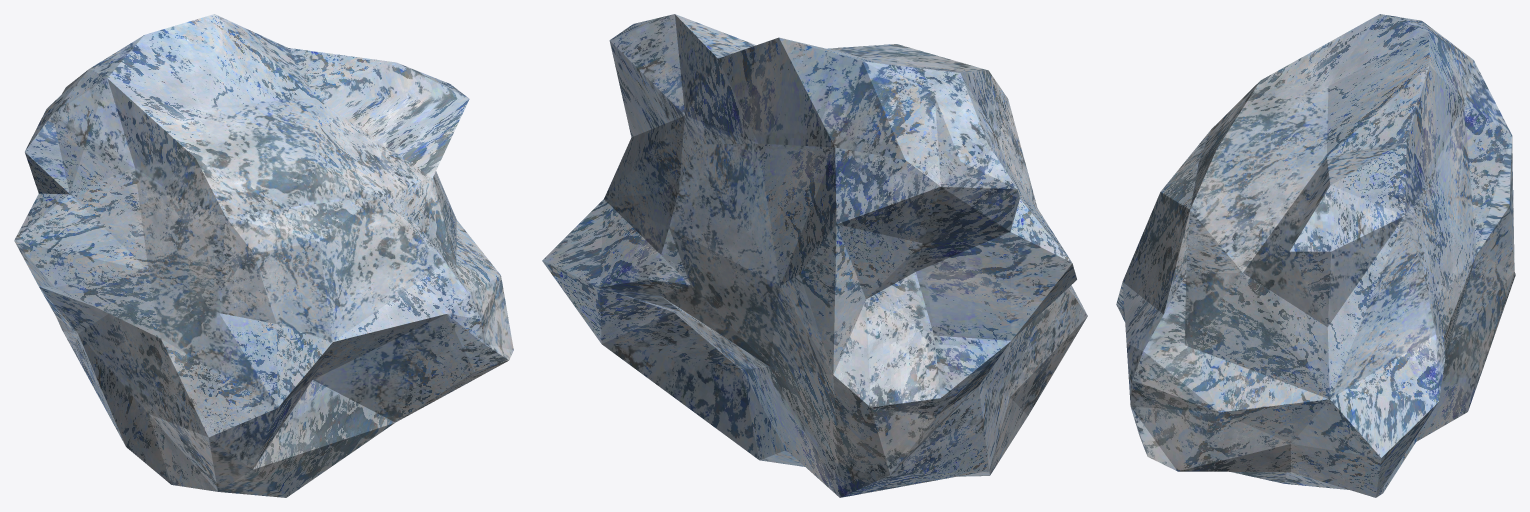
The model's file is asteroid_ice_small_s02_l1.fbx.
3 renders of one model, left to right at view 1: azimuth 30°, elevation 25°; view 2: azimuth 150°, elevation 25°; view 3: azimuth 270°, elevation 25°, orthographic. The views are drawn at different scales.
Parts seen in each view (by area): view 1: mesh_node; view 2: mesh_node; view 3: mesh_node.
Part boxes in pixels (left/top/right/bottom): mesh_node: left=14, top=14, right=513, bottom=497; mesh_node: left=542, top=14, right=1087, bottom=497; mesh_node: left=1116, top=14, right=1515, bottom=497.
Size of the model in its own units: 22.35 by 19.7 by 16.23.
Materials: 1 (1 with a texture image).
